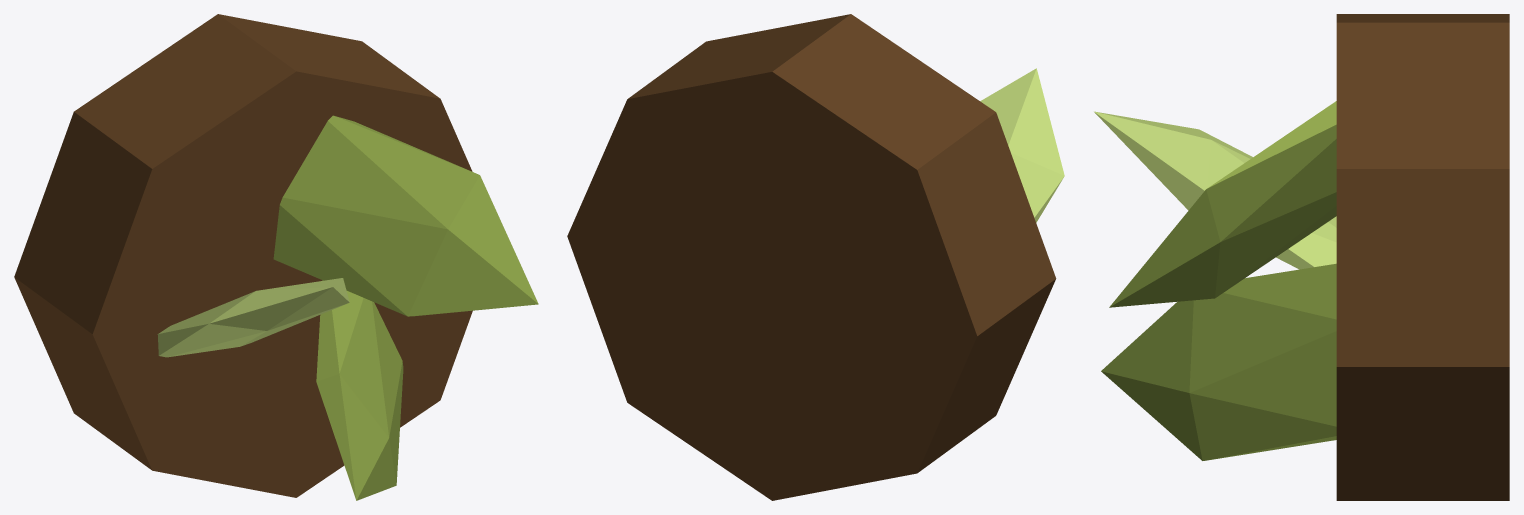
The model's file is 1_seedling.obj.
The picture shows the model from 3 angles, left to right: view 1: azimuth 30°, elevation 25°; view 2: azimuth 150°, elevation 25°; view 3: azimuth 270°, elevation 25°; orthographic projection. The views are drawn at different scales.
Visible parts, largest first — view 1: tarromin_1_seedling; view 2: tarromin_1_seedling; view 3: tarromin_1_seedling.
Part boxes in pixels (x1,y1,x2,y2): tarromin_1_seedling: (14,14,538,500); tarromin_1_seedling: (567,14,1064,500); tarromin_1_seedling: (1094,14,1509,500).
Bounding box in the file's own units: 0.12 × 0.12 × 0.0963.
